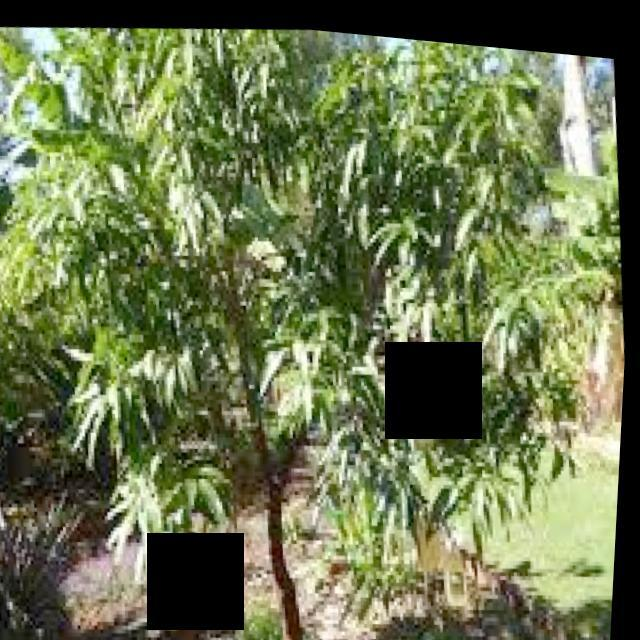Tree: (26, 5, 513, 640)
